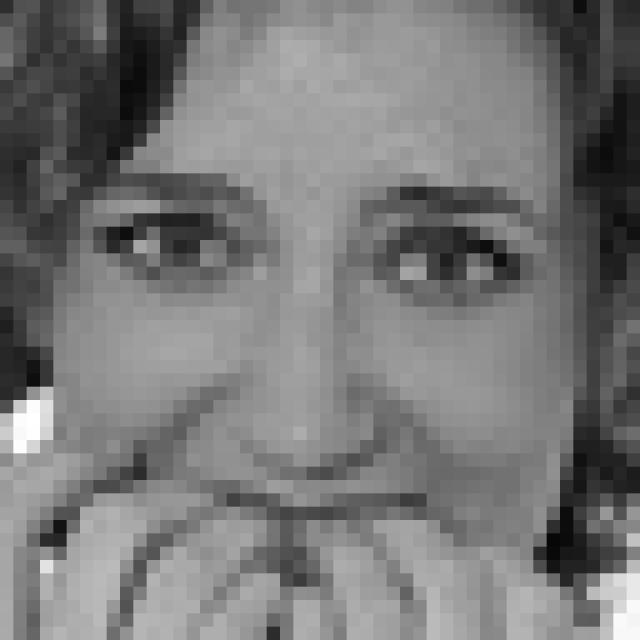fear: (86, 161, 558, 593)
